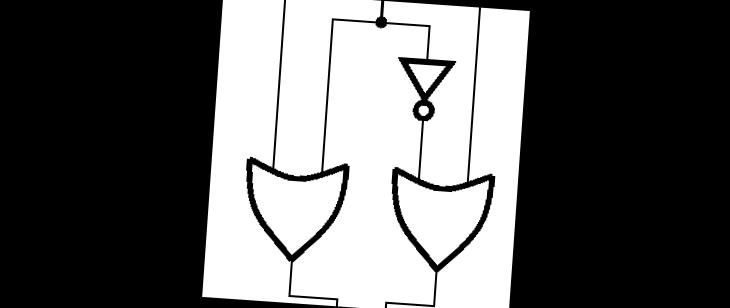not: (387, 51, 461, 128)
or: (378, 158, 500, 284), (234, 149, 354, 273)
